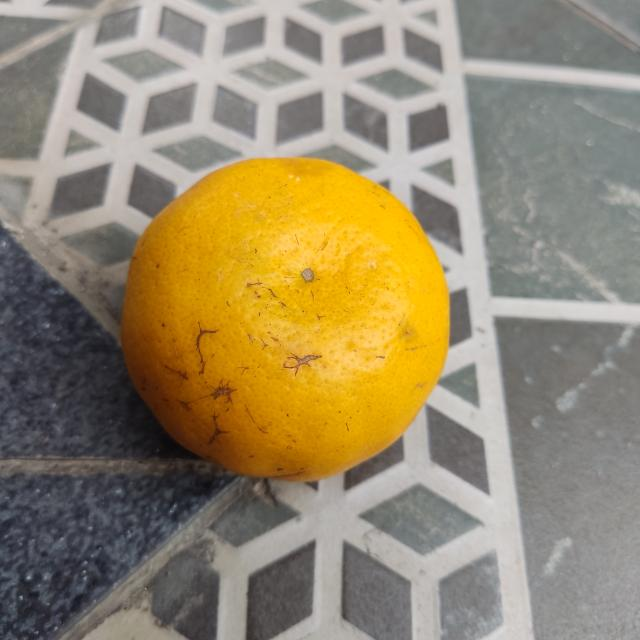orange: (120, 151, 452, 488)
